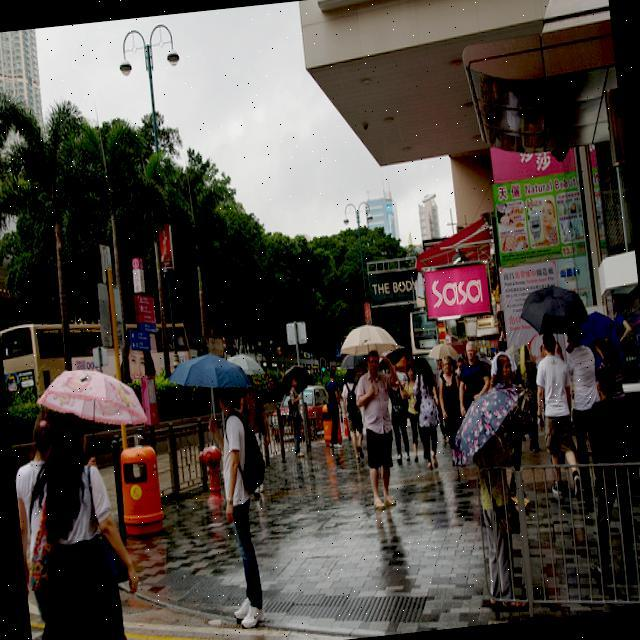fire_hydrant: (196, 442, 227, 501)
